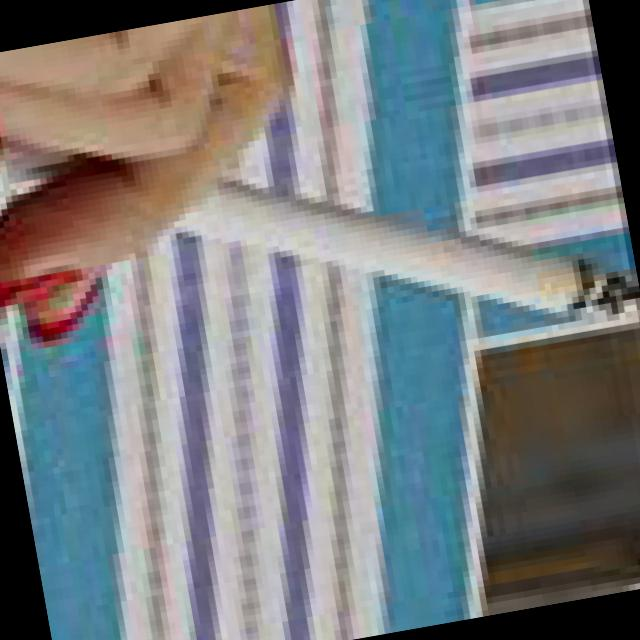smoke: (0, 64, 638, 445)
